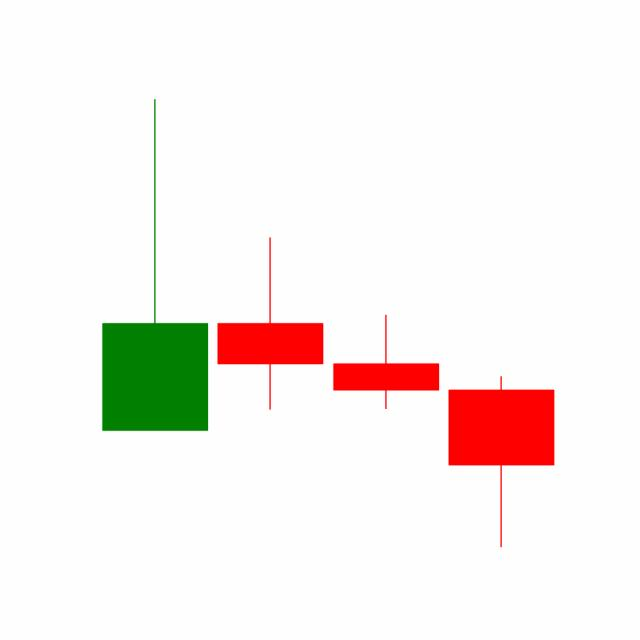Hammer: (443, 373, 559, 549)
